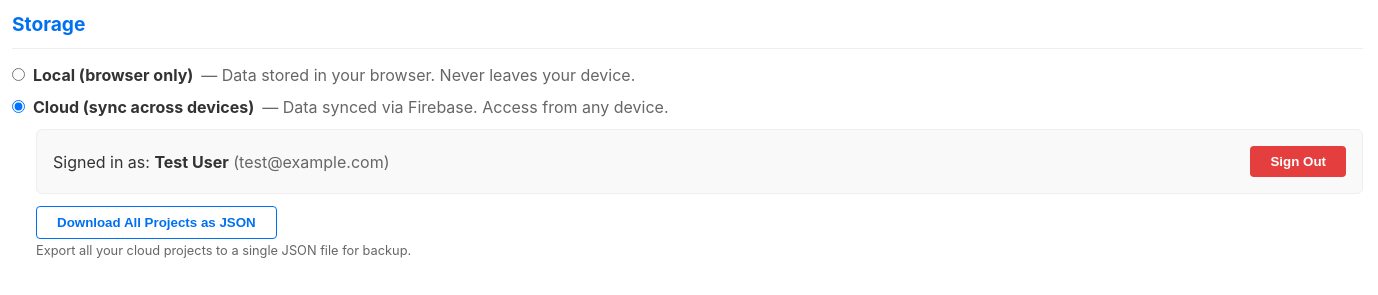
Scenario: StorageSection › Download All Projects as JSON › reports an unknown error when the export fails with something that is not an Error
The image size is (1378, 295).
Step 1. Click the button "Download All Projects as JSON" → (156, 222), box [36,206,277,239]
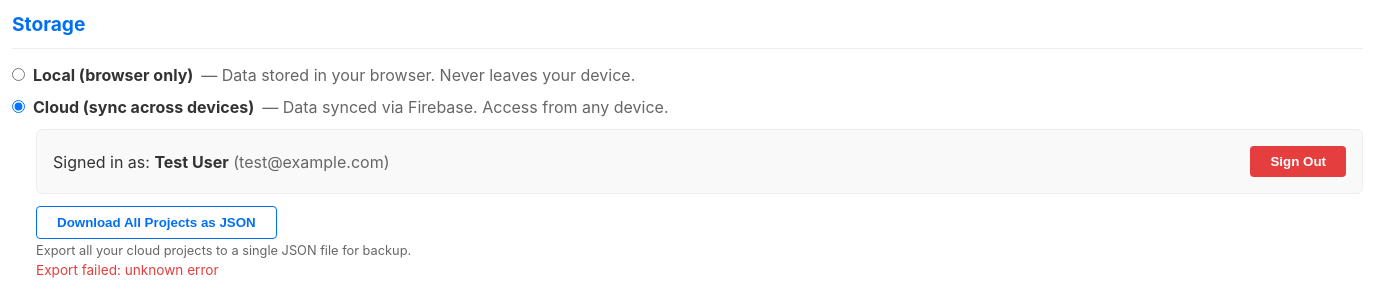
Now the text "Export failed: unknown error" is shown, box [36,262,219,278]
